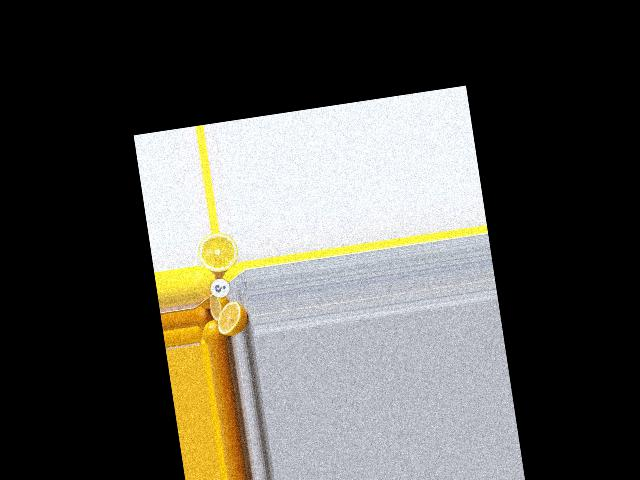lemon: (188, 261, 220, 304)
